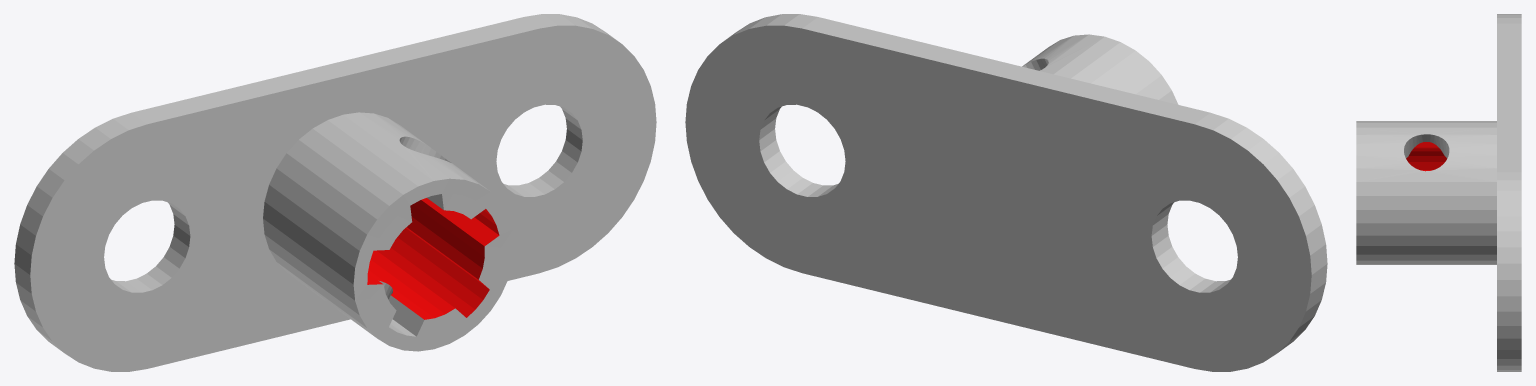
File: Encaixe_caixa_stp_11_12_13_15_16_17_18_20_23_27_29_31_32_33_34_36_37_38_40_41_42.obj
3 renders of one model, left to right at view 1: azimuth 30°, elevation 25°; view 2: azimuth 150°, elevation 25°; view 3: azimuth 270°, elevation 25°, orthographic. The views are drawn at different scales.
Parts seen in each view (by area): view 1: Object1; view 2: Object1; view 3: Object1.
Part boxes in pixels (<box>): Object1: <box>14,14,656,371</box>; Object1: <box>685,14,1327,371</box>; Object1: <box>1356,14,1521,371</box>.
Size of the model in its own units: 79.79 by 29.79 by 23.5.
